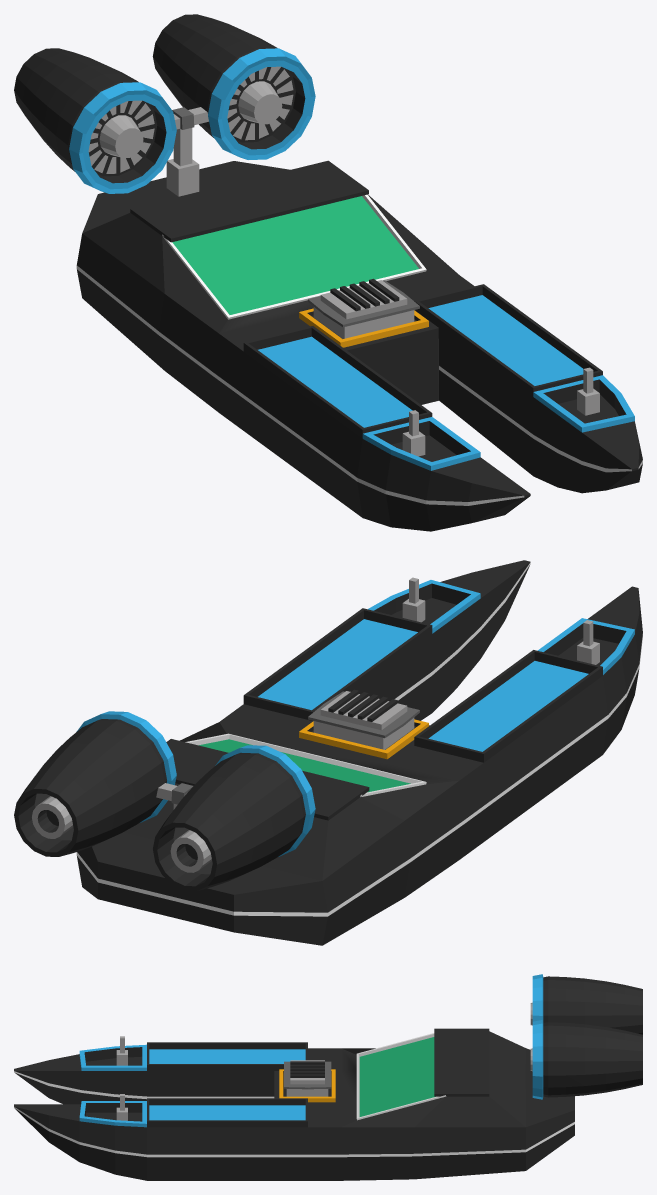
Rendered from Boat_03.glb.
3 renders of one model, top to bottom at view 1: azimuth 30°, elevation 25°; view 2: azimuth 150°, elevation 25°; view 3: azimuth 270°, elevation 25°, orthographic. The views are drawn at different scales.
Visible parts, largest first — view 1: Boat 12.001; view 2: Boat 12.001; view 3: Boat 12.001.
Part boxes in pixels (x1,y1,x2,y2): Boat 12.001: (14,14,642,531); Boat 12.001: (14,560,642,945); Boat 12.001: (14,974,642,1180).
Bounding box in the file's own units: 10.85 × 8.6 × 34.86.
Materials: 1 (1 with a texture image).
